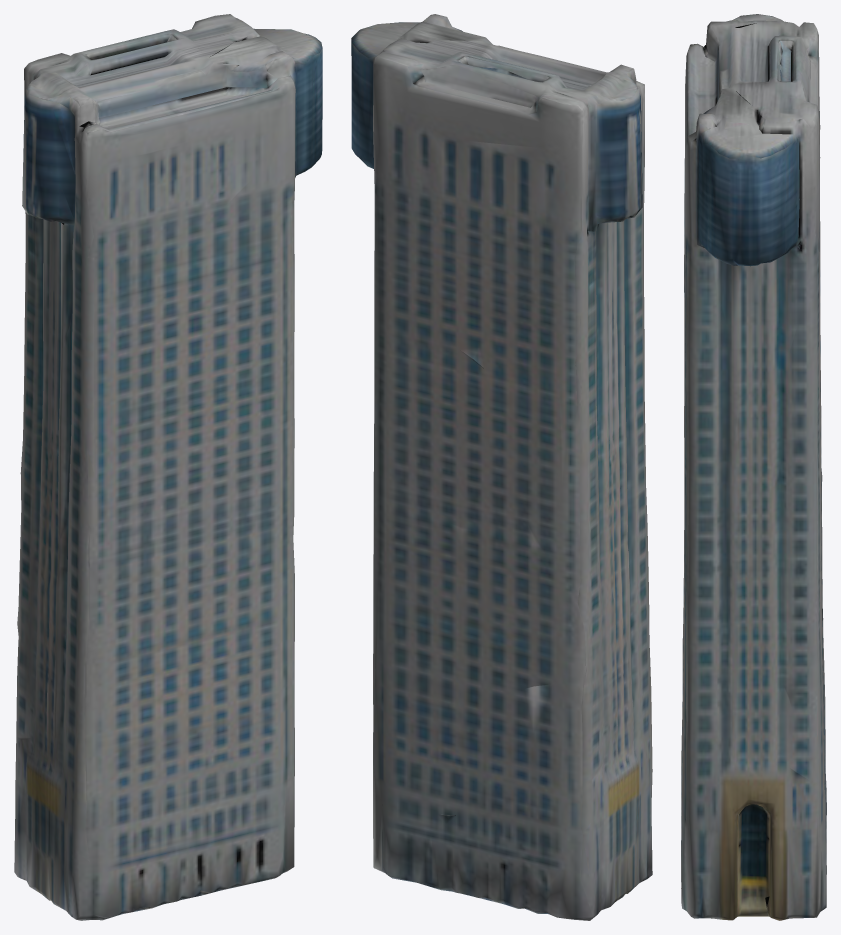
File: lasalle_120_n.glb
3 renders of one model, left to right at view 1: azimuth 30°, elevation 25°; view 2: azimuth 150°, elevation 25°; view 3: azimuth 270°, elevation 25°, orthographic.
Parts seen in each view (by area): view 1: lasalle_120_n; view 2: lasalle_120_n; view 3: lasalle_120_n.
Boxes of the visible parts, bbox=[...] form: lasalle_120_n: bbox=[14, 14, 322, 920]; lasalle_120_n: bbox=[351, 14, 652, 920]; lasalle_120_n: bbox=[681, 14, 826, 920].
Size of the model in its own units: 56 by 153 by 25.
1 material, 1 textured.
